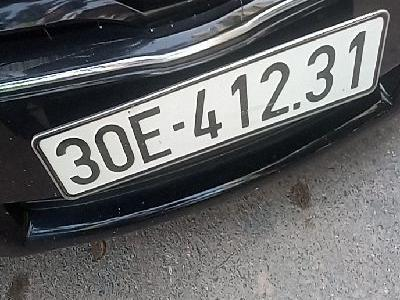number: (37, 11, 385, 196)
